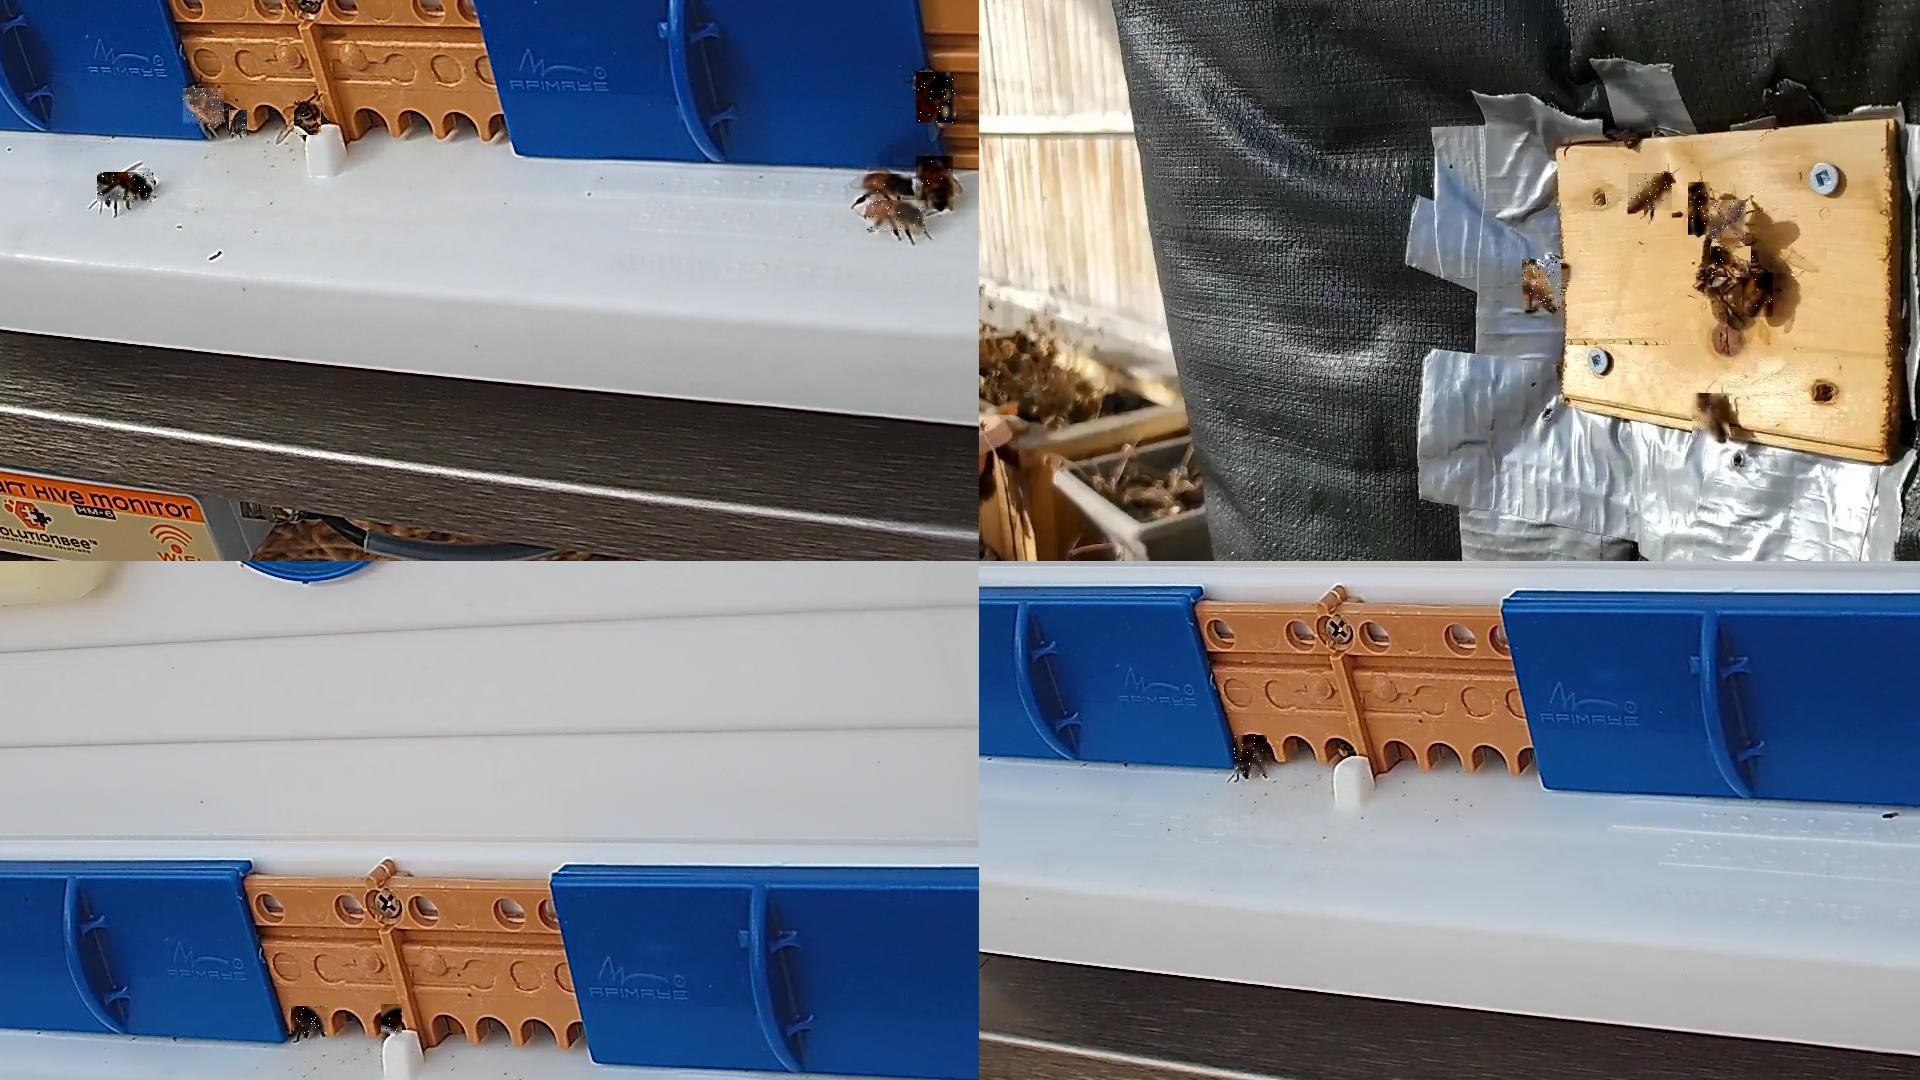bee: (1523, 260, 1567, 311), (866, 200, 927, 233), (98, 173, 156, 204), (1692, 394, 1730, 442), (1629, 173, 1673, 211), (183, 88, 225, 127), (1709, 200, 1747, 240), (1742, 273, 1774, 318), (1234, 736, 1269, 777), (1712, 247, 1755, 278), (1688, 182, 1712, 236), (857, 174, 913, 196), (291, 1007, 330, 1035), (294, 102, 322, 136), (229, 109, 248, 135)
pollenbee: (916, 73, 957, 124), (916, 156, 955, 210), (381, 1005, 404, 1036)
